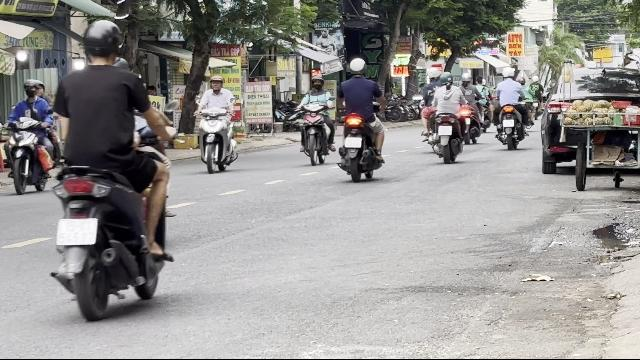helmet: (80, 20, 124, 64), (22, 78, 42, 98), (348, 58, 366, 76), (208, 74, 224, 90), (309, 74, 323, 90)
licenseplate: (56, 218, 95, 244), (345, 138, 361, 148)
motorcyclist: (45, 18, 179, 320), (0, 78, 56, 194), (336, 57, 386, 181), (194, 74, 240, 174), (294, 74, 336, 164)
